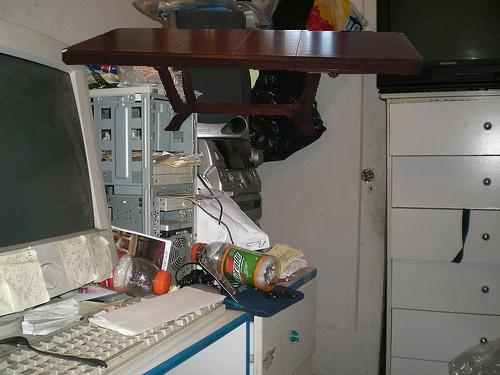tampered: (63, 29, 423, 136)
